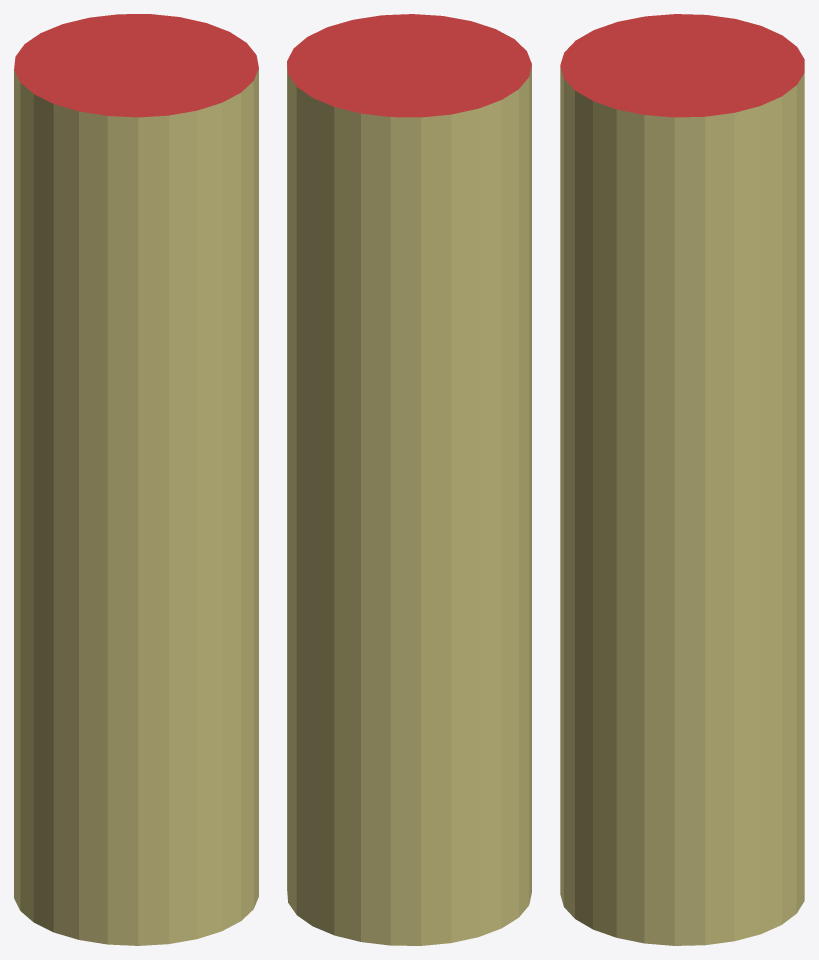
3 views of the same model, side by side, from view 1: azimuth 30°, elevation 25°; view 2: azimuth 150°, elevation 25°; view 3: azimuth 270°, elevation 25° (orthographic).
Size of the model in its own units: 3.67 by 3.66 by 13.69.
